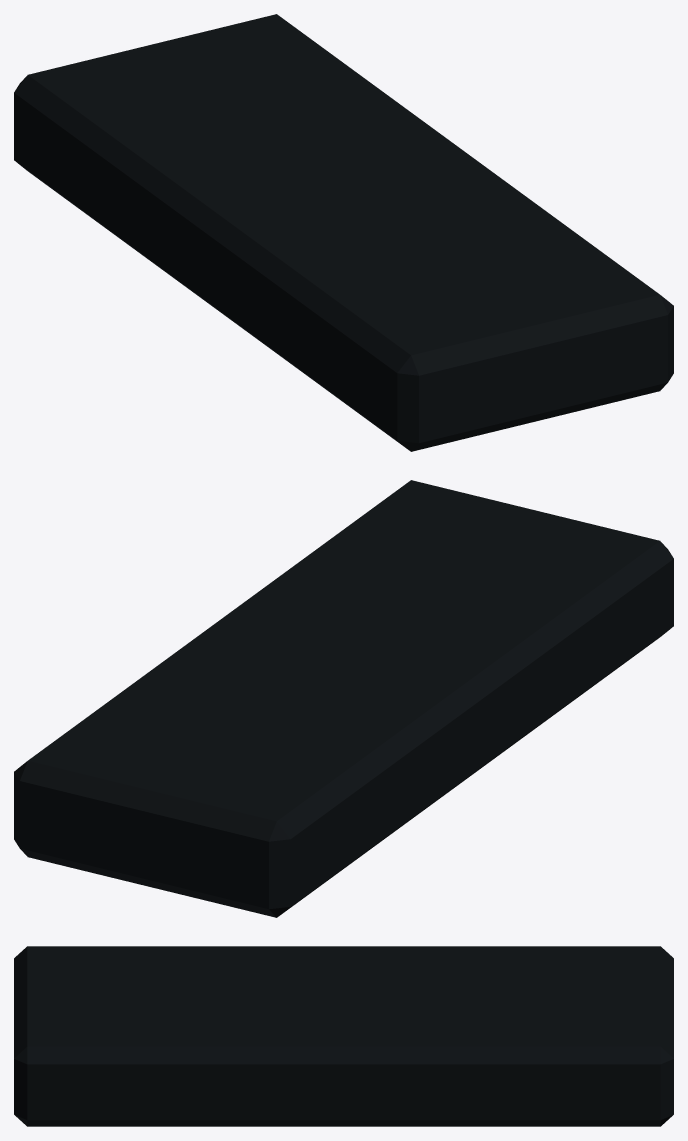
The model's file is BombGlide__WingHinge.obj.
The picture shows the model from 3 angles, top to bottom: view 1: azimuth 30°, elevation 25°; view 2: azimuth 150°, elevation 25°; view 3: azimuth 270°, elevation 25°; orthographic projection. The views are drawn at different scales.
Visible parts, largest first — view 1: Wing_hinge_housing; view 2: Wing_hinge_housing; view 3: Wing_hinge_housing.
Boxes of the visible parts, <box> form: Wing_hinge_housing: <box>14,14,673,451</box>; Wing_hinge_housing: <box>14,480,673,917</box>; Wing_hinge_housing: <box>14,946,673,1126</box>.
Size of the model in its own units: 0.24 by 0.08 by 0.6.
